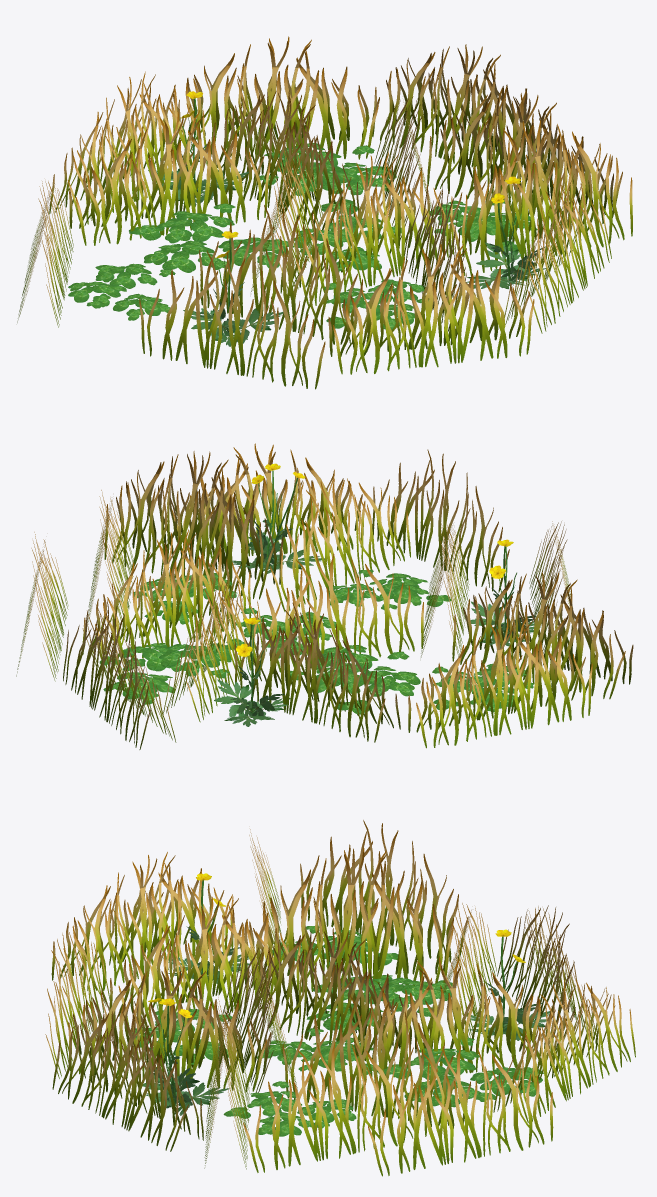
Rendered from GreenButterGrass_Patch.fbx.
3 renders of one model, top to bottom at view 1: azimuth 30°, elevation 25°; view 2: azimuth 150°, elevation 25°; view 3: azimuth 270°, elevation 25°, orthographic. The views are drawn at different scales.
Parts seen in each view (by area): view 1: GreenButterGrassPatch; view 2: GreenButterGrassPatch; view 3: GreenButterGrassPatch.
Part boxes in pixels (left/top/right/bottom): GreenButterGrassPatch: left=17, top=36, right=632, bottom=389; GreenButterGrassPatch: left=16, top=443, right=633, bottom=749; GreenButterGrassPatch: left=45, top=820, right=635, bottom=1176.
Bounding box in the file's own units: 218 × 206 × 51.14.
